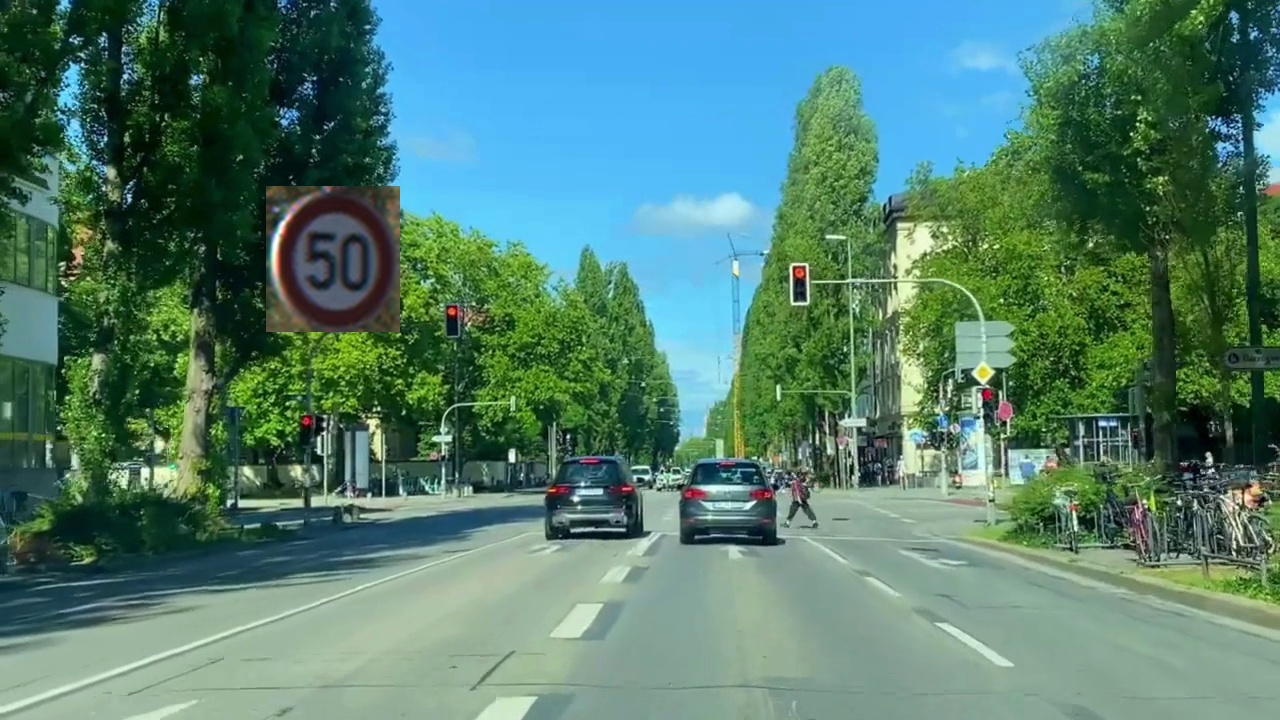Speed 50: (266, 186, 400, 332)
